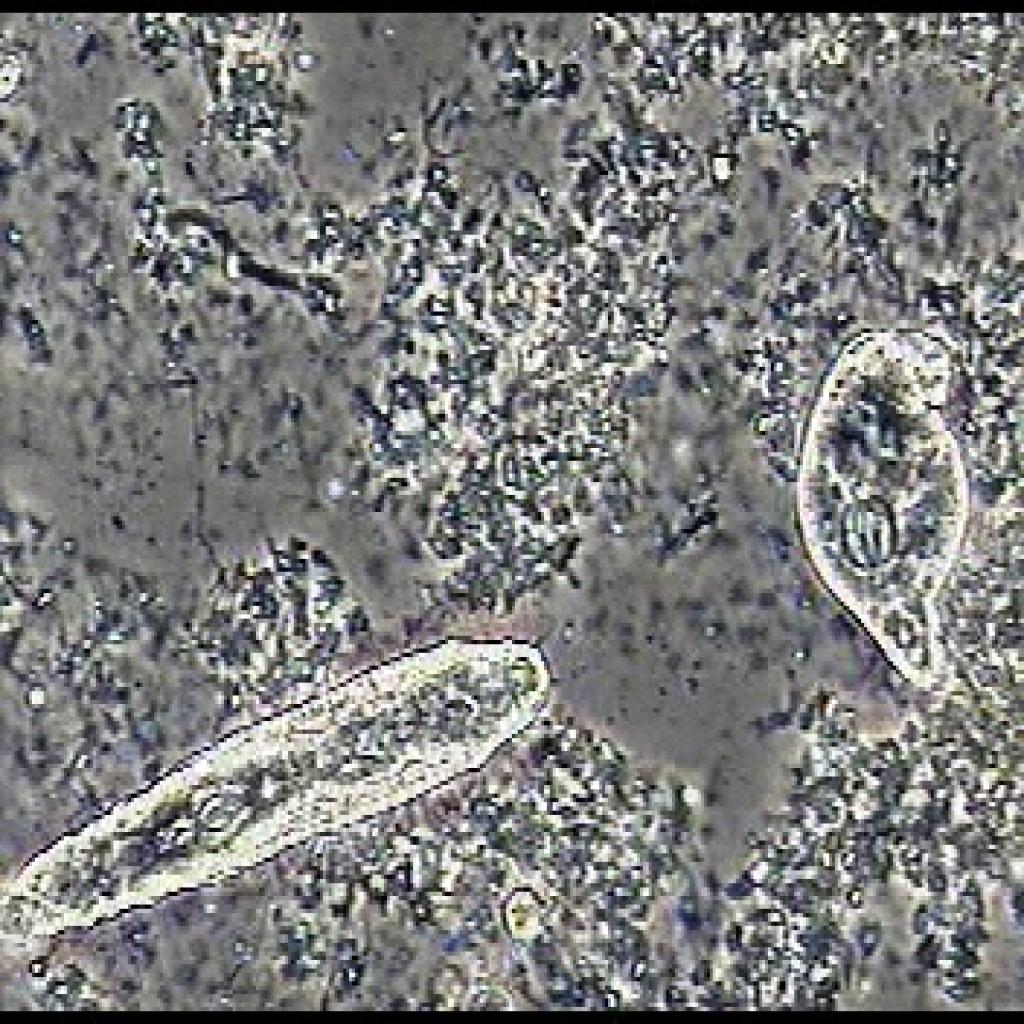Rotatoria: (0, 614, 550, 952), (764, 288, 982, 706)
